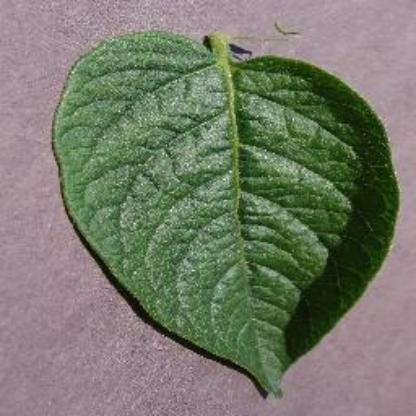Healthy-plant: (49, 27, 401, 404)
